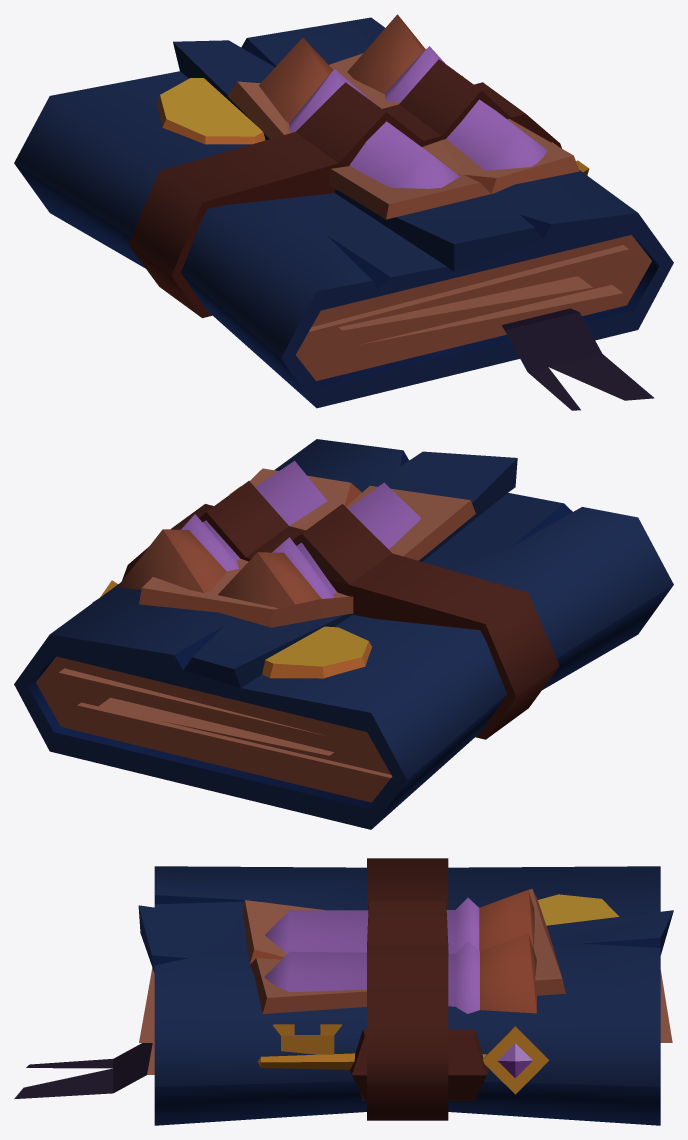
The model's file is Alchemy_Book.fbx.
The picture shows the model from 3 angles, top to bottom: view 1: azimuth 30°, elevation 25°; view 2: azimuth 150°, elevation 25°; view 3: azimuth 270°, elevation 25°; orthographic projection. The views are drawn at different scales.
Parts seen in each view (by area): view 1: Alchemy_Book; view 2: Alchemy_Book; view 3: Alchemy_Book.
Part boxes in pixels (box(x1,y1,x2,y2)): Alchemy_Book: box(14, 14, 673, 410); Alchemy_Book: box(14, 439, 673, 829); Alchemy_Book: box(14, 858, 673, 1125).
Bounding box in the file's own units: 69.47 × 30.07 × 104.
